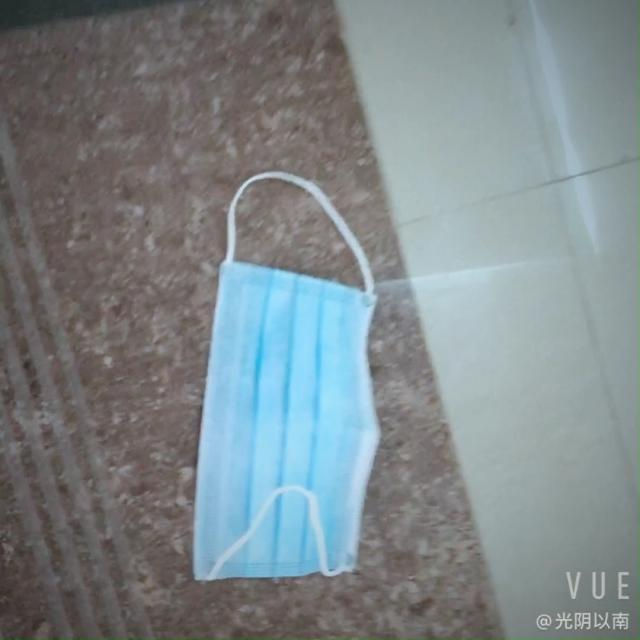face mask: (185, 272, 382, 580)
